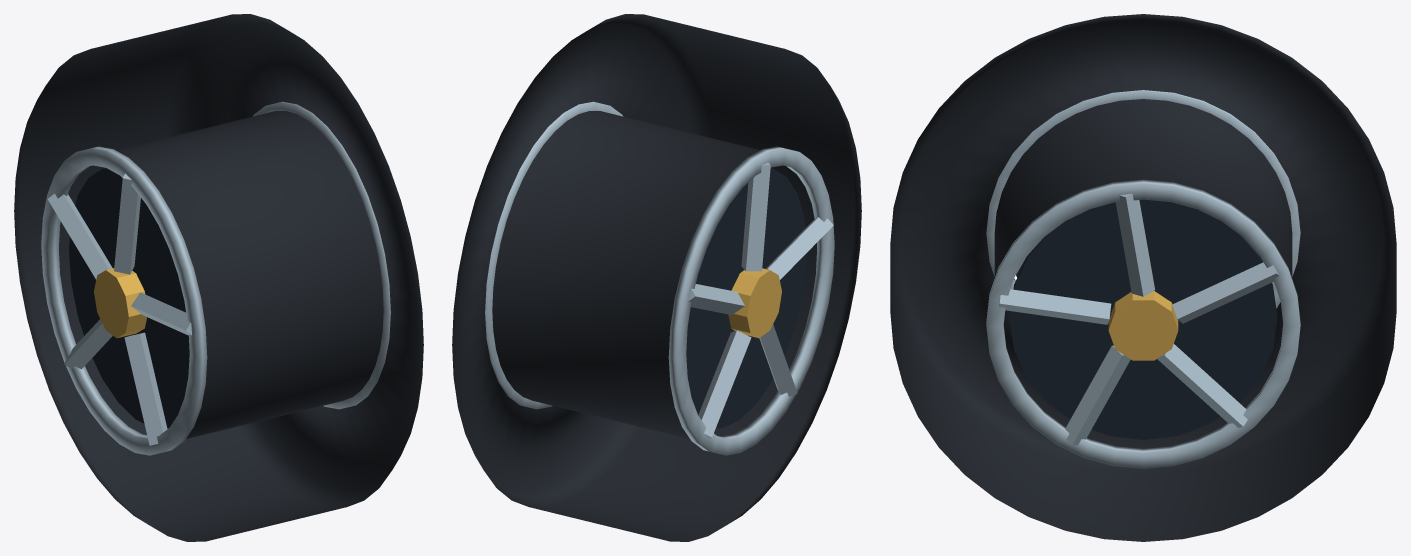
Rendered from five.glb.
The picture shows the model from 3 angles, left to right: view 1: azimuth 30°, elevation 25°; view 2: azimuth 150°, elevation 25°; view 3: azimuth 270°, elevation 25°; orthographic projection.
Visible parts, largest first — view 1: Wheel; view 2: Wheel; view 3: Wheel.
Part boxes in pixels (box(x1,y1,x2,y2)): Wheel: box(14, 14, 423, 541); Wheel: box(452, 14, 861, 541); Wheel: box(890, 14, 1396, 541).
Size of the model in its own units: 0.334 by 0.68 by 0.68.
